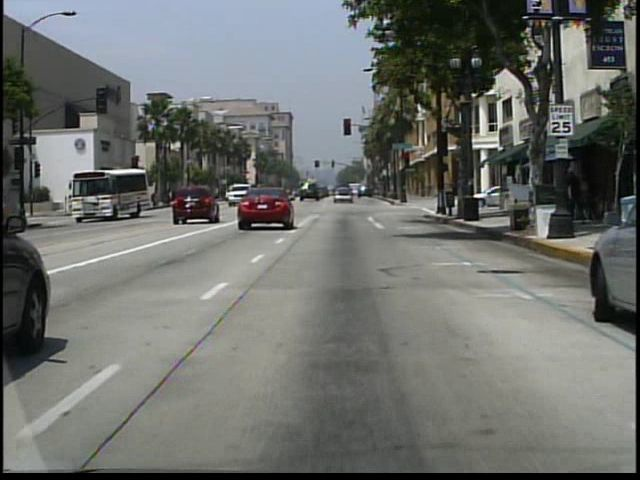person: (66, 195, 75, 217)
